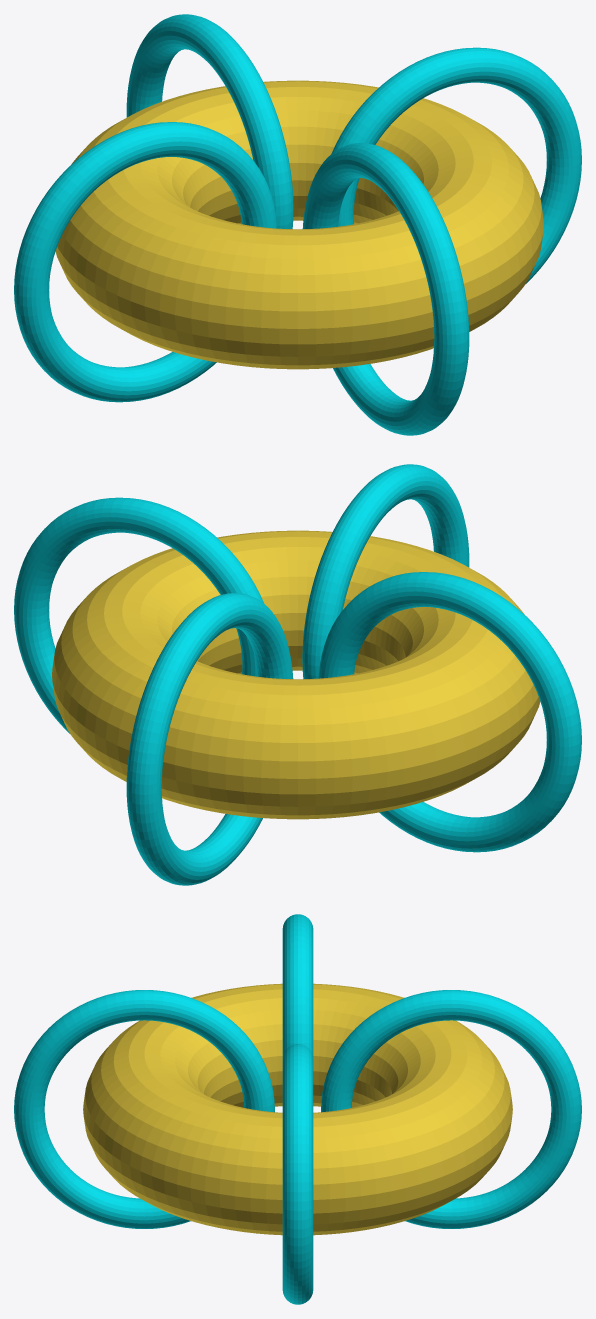
File: ElectronicDonuts.fbx
3 renders of one model, top to bottom at view 1: azimuth 30°, elevation 25°; view 2: azimuth 150°, elevation 25°; view 3: azimuth 270°, elevation 25°, orthographic. The views are drawn at different scales.
Parts seen in each view (by area): view 1: 電気ドーナツ, 電気.003, 電気.002, 電気, 電気.001; view 2: 電気ドーナツ, 電気.003, 電気.001, 電気, 電気.002; view 3: 電気ドーナツ, 電気.001, 電気.002, 電気, 電気.003.
Boxes of the visible parts, x1=… form: 電気ドーナツ: x1=55, y1=80, x2=543, y2=369; 電気.003: x1=14, y1=122, x2=277, y2=402; 電気.002: x1=302, y1=143, x2=469, y2=435; 電気: x1=331, y1=47, x2=581, y2=283; 電気.001: x1=126, y1=14, x2=293, y2=228; 電気ドーナツ: x1=52, y1=530, x2=540, y2=819; 電気.003: x1=318, y1=572, x2=581, y2=852; 電気.001: x1=126, y1=593, x2=293, y2=885; 電気: x1=14, y1=497, x2=264, y2=733; 電気.002: x1=302, y1=464, x2=469, y2=678; 電気ドーナツ: x1=83, y1=983, x2=512, y2=1235; 電気.001: x1=321, y1=990, x2=581, y2=1228; 電気.002: x1=14, y1=990, x2=274, y2=1228; 電気: x1=282, y1=1044, x2=313, y2=1304; 電気.003: x1=282, y1=914, x2=313, y2=1057.
Bounding box in the file's own units: 370 × 170 × 370.
